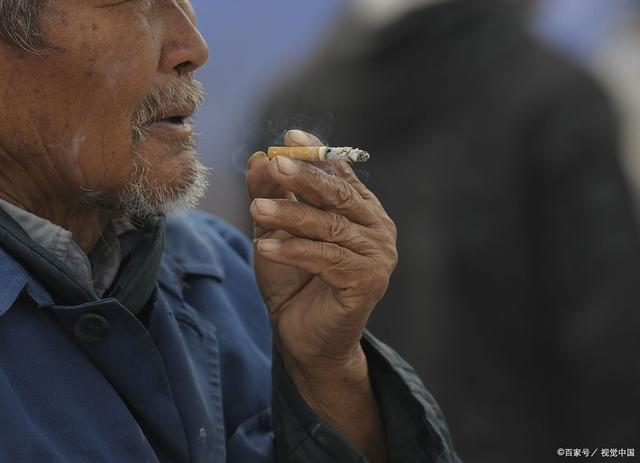smoke: (267, 146, 372, 163)
